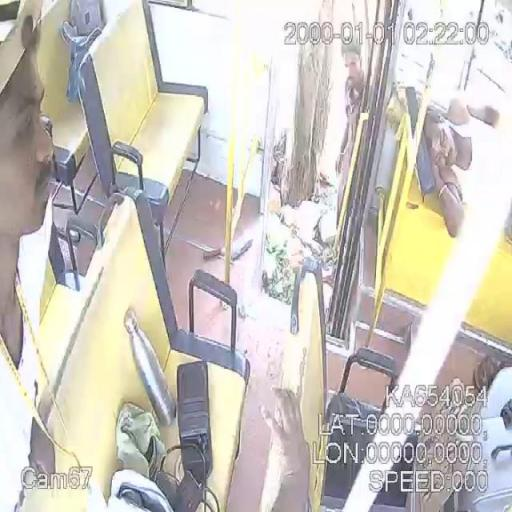persona: (0, 46, 67, 507), (421, 96, 500, 238), (328, 31, 366, 207)
